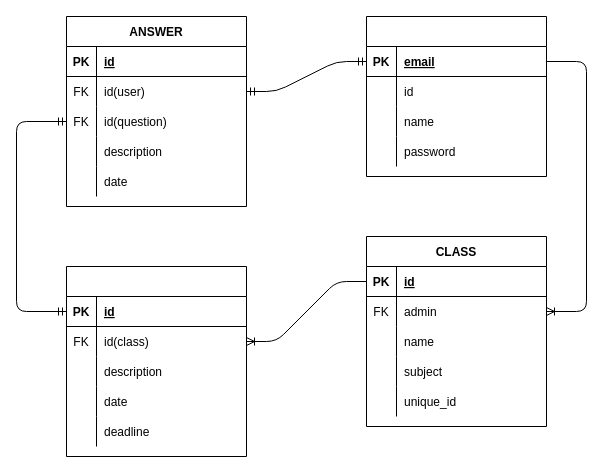
This 603x473 diagram has some shape labels left out. Each missing label, with the box of its shape:
QUESTION: (66, 266, 246, 456)
USER: (366, 16, 546, 176)
